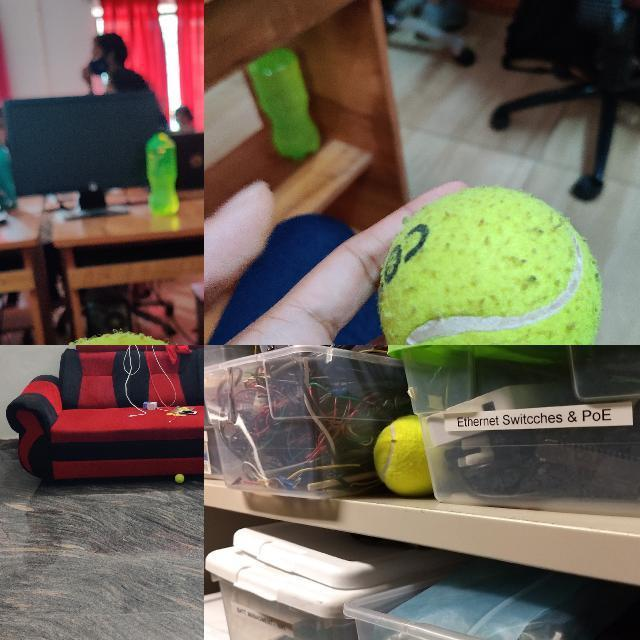tennis-ball: (377, 185, 603, 344), (372, 415, 416, 497), (174, 473, 184, 483)
